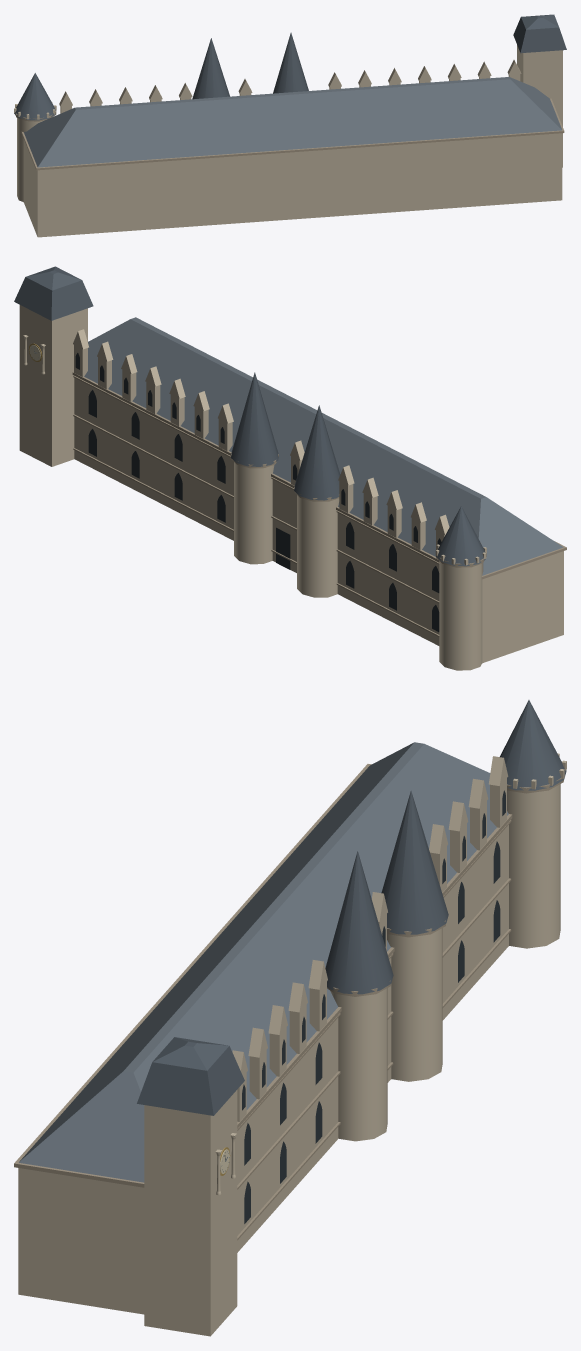
Rendered from paris-conciergerie-far.glb.
3 views of the same model, one above another, from view 1: azimuth 30°, elevation 25°; view 2: azimuth 150°, elevation 25°; view 3: azimuth 270°, elevation 25° (orthographic). The views are drawn at different scales.
Visible parts, largest first — view 1: paris-conciergerie-0-stone, paris-conciergerie-0-slate, paris-conciergerie-0-roof, paris-conciergerie-0-shade; view 2: paris-conciergerie-0-stone, paris-conciergerie-0-slate, paris-conciergerie-0-roof, paris-conciergerie-0-shade, paris-conciergerie-0-glass; view 3: paris-conciergerie-0-stone, paris-conciergerie-0-slate, paris-conciergerie-0-roof, paris-conciergerie-0-shade, paris-conciergerie-0-glass.
Part boxes in pixels (x1,y1,x2,y2): paris-conciergerie-0-stone: [14, 45, 562, 237]; paris-conciergerie-0-slate: [24, 77, 561, 167]; paris-conciergerie-0-roof: [14, 14, 566, 120]; paris-conciergerie-0-shade: [15, 98, 564, 170]; paris-conciergerie-0-stone: [19, 305, 563, 670]; paris-conciergerie-0-slate: [84, 317, 563, 575]; paris-conciergerie-0-roof: [14, 266, 485, 566]; paris-conciergerie-0-shade: [72, 372, 566, 636]; paris-conciergerie-0-glass: [75, 353, 441, 631]; paris-conciergerie-0-stone: [18, 753, 566, 1336]; paris-conciergerie-0-slate: [19, 742, 508, 1182]; paris-conciergerie-0-roof: [137, 700, 566, 1172]; paris-conciergerie-0-shade: [14, 764, 563, 1240]; paris-conciergerie-0-glass: [242, 790, 505, 1223].
Bounding box in the file's own units: 179 × 52 × 94.03.
